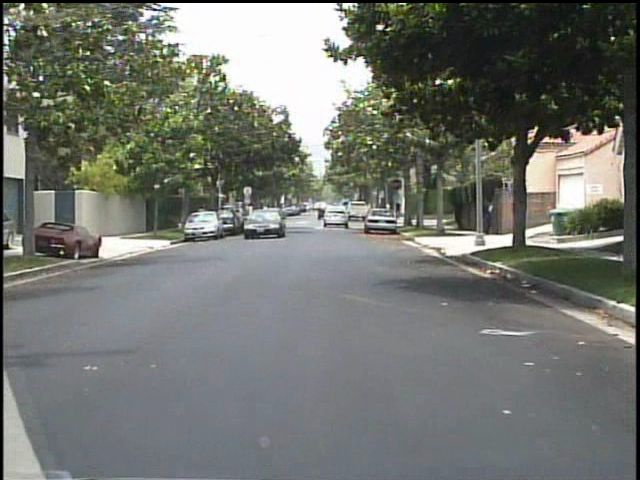person: (483, 192, 497, 237), (194, 202, 210, 232)
